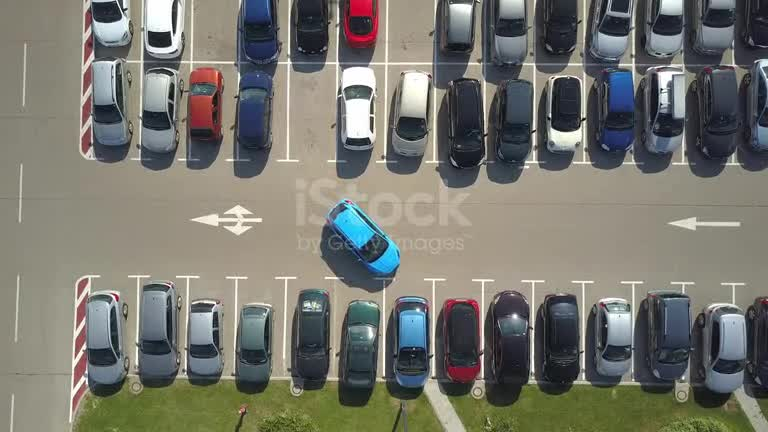car: (326, 199, 399, 275), (691, 65, 740, 158), (696, 303, 746, 392), (643, 290, 691, 380), (138, 281, 181, 377), (86, 291, 129, 385), (640, 66, 686, 153), (490, 290, 530, 384), (91, 57, 132, 145), (141, 67, 183, 152), (445, 78, 485, 167), (393, 296, 431, 387), (391, 70, 431, 156), (341, 300, 380, 388), (593, 68, 634, 151), (541, 293, 579, 382), (442, 298, 482, 382), (294, 289, 330, 380), (494, 79, 533, 162), (543, 75, 584, 152), (592, 298, 632, 376), (235, 303, 273, 383), (340, 67, 375, 150), (187, 299, 223, 375), (237, 72, 272, 148), (589, 0, 632, 61), (490, 0, 529, 65), (240, 0, 280, 63), (188, 67, 223, 139), (143, 0, 184, 58), (691, 0, 735, 54), (643, 0, 683, 57), (743, 59, 767, 150), (543, 0, 580, 53), (440, 0, 476, 54), (91, 0, 133, 46), (746, 296, 767, 388), (294, 0, 329, 53), (343, 0, 378, 47), (741, 0, 767, 47)
